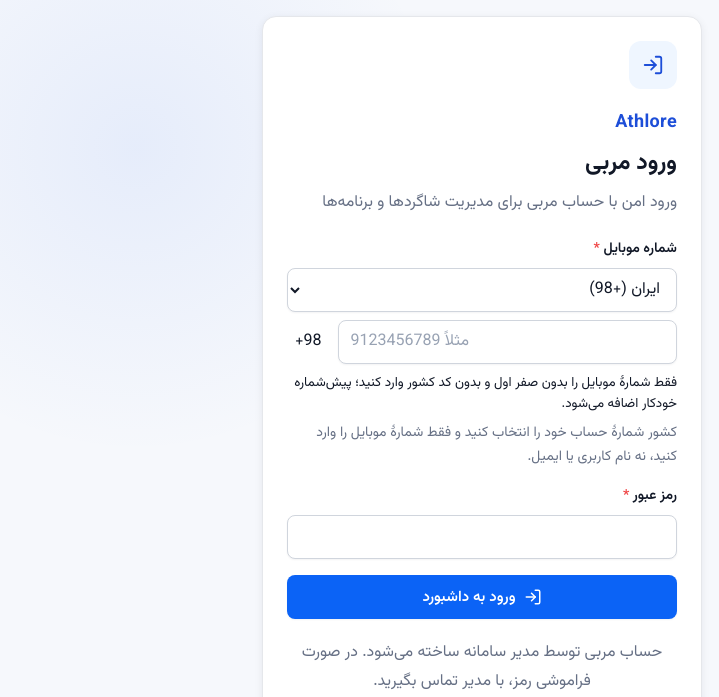
Test case: LoginPage › shows validation errors
The image size is (719, 697).
Click the button "ورود به داشبورد".
click(482, 597)  # box [287,575,677,619]
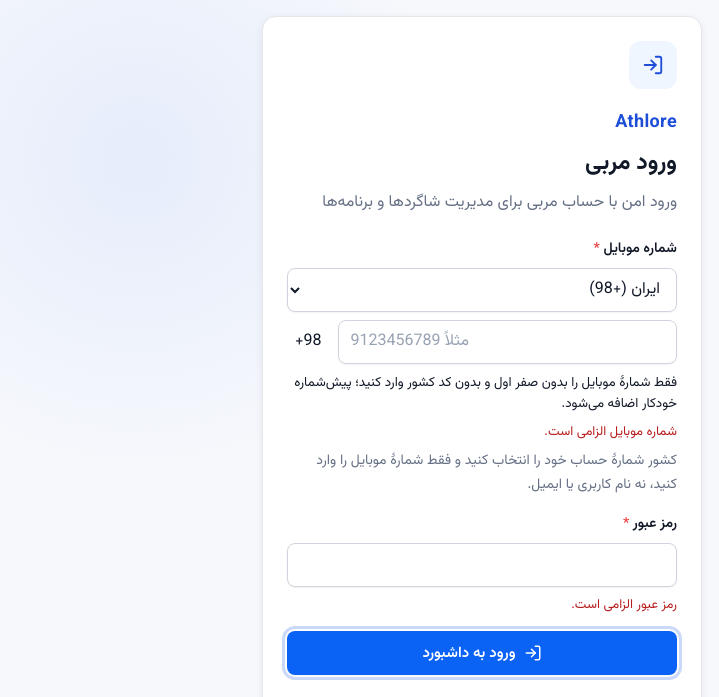
Expected: the text "شماره موبایل الزامی است." is shown, [544,422,677,442]
